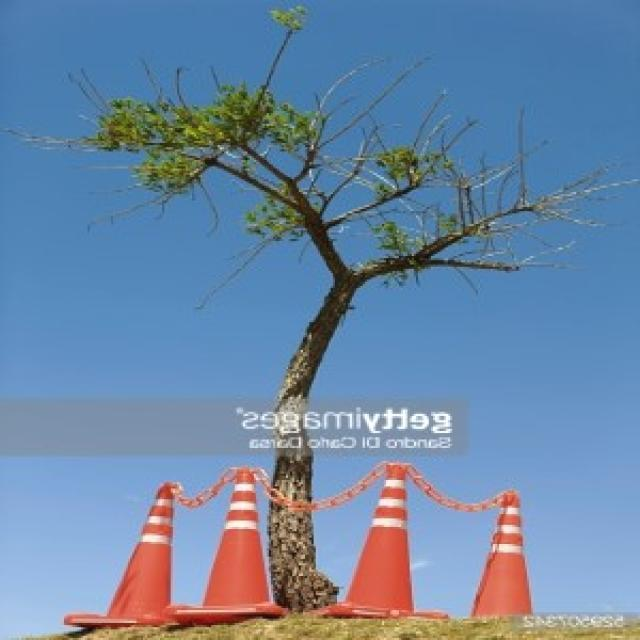traffic cone: (305, 464, 450, 620), (63, 480, 186, 629), (174, 467, 289, 624), (470, 491, 534, 618)
